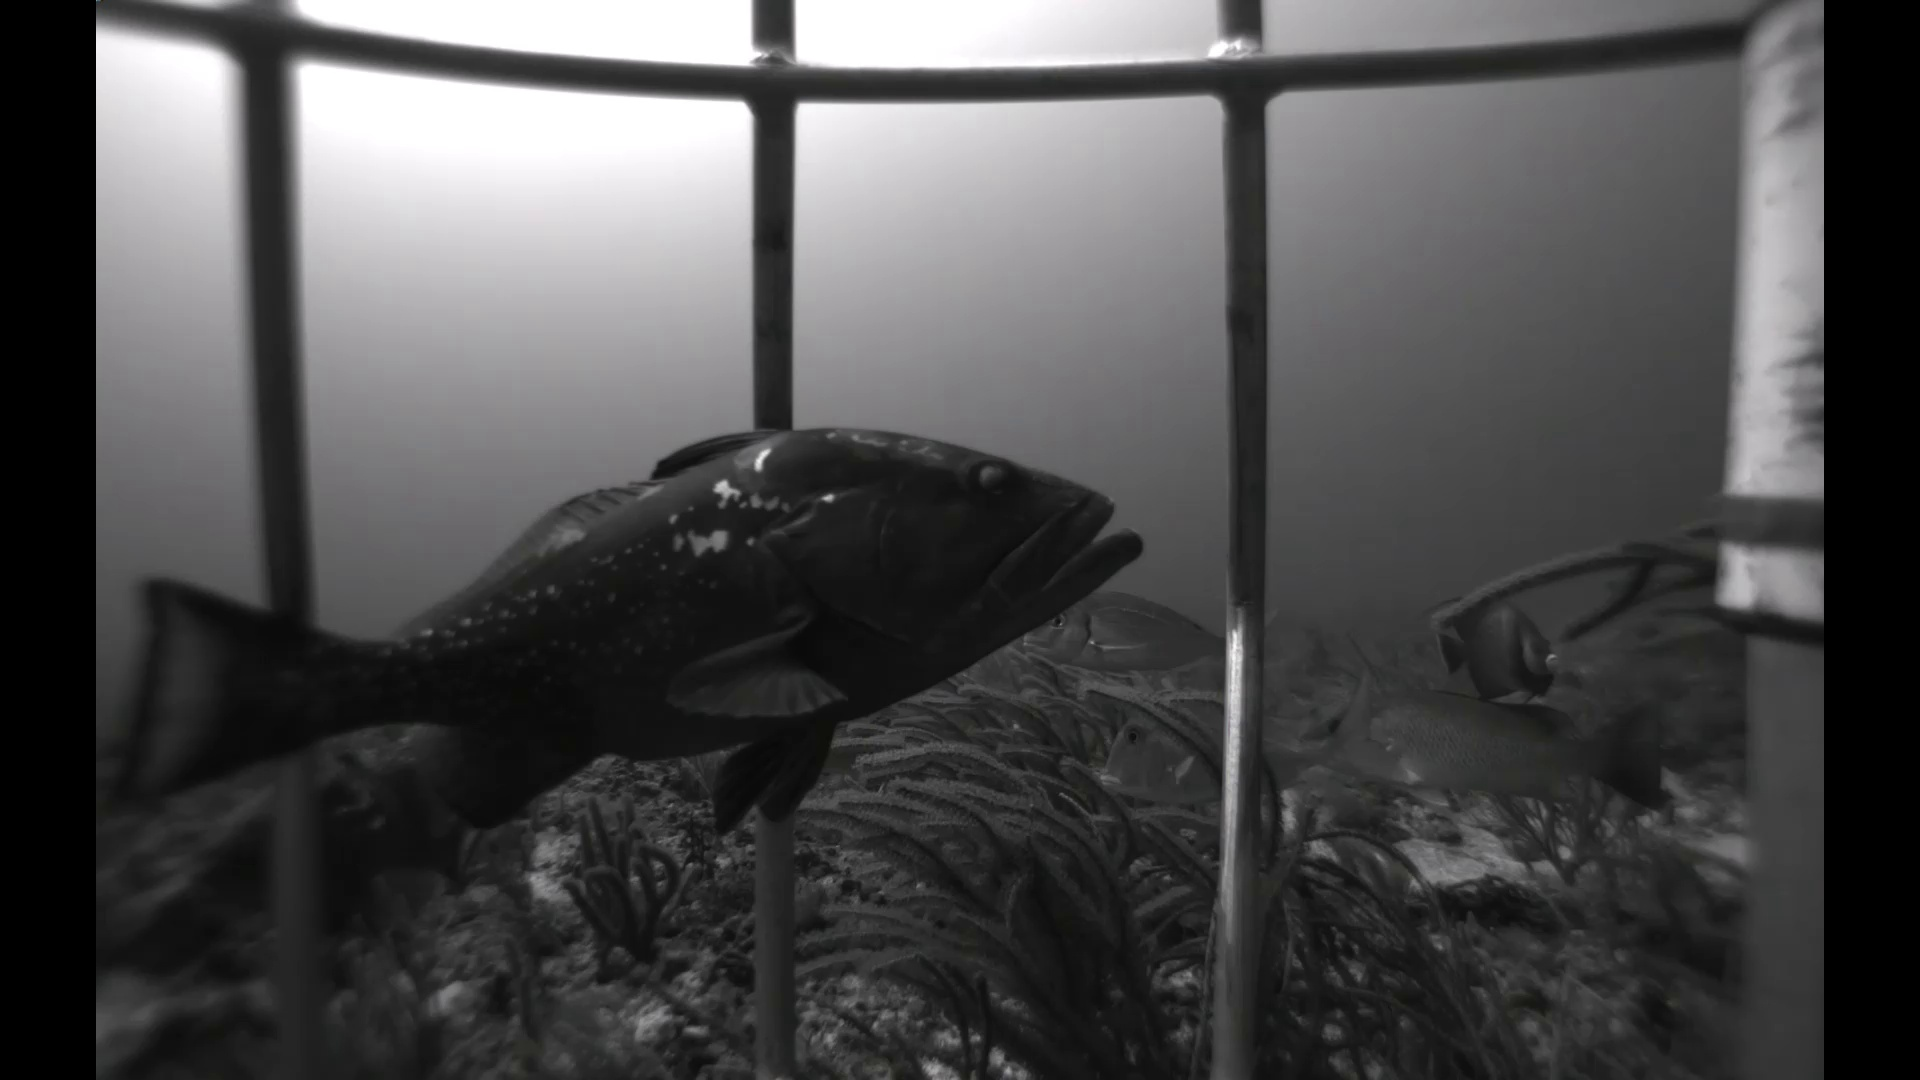CALAMUSNODOSUS-170210608: (1087, 653, 1399, 822)
EPINEPHELUSMORIO-170021211: (117, 402, 1158, 876), (189, 741, 513, 945)
LUTJANUSGRISEUS-170151109: (1283, 646, 1696, 835), (819, 742, 930, 798)
PAGRUSPAGRUS-170212302: (1011, 584, 1294, 675)
POMACANTHUSARCUATUS-170290201: (1429, 592, 1564, 715)
